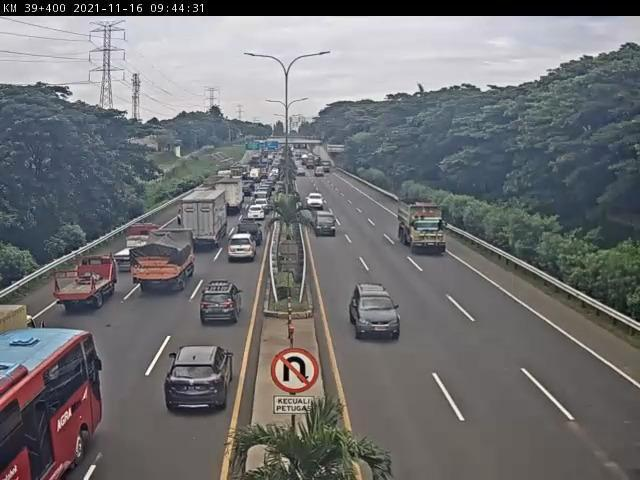car: (165, 346, 235, 413), (350, 285, 401, 339), (201, 279, 245, 323), (228, 238, 258, 265), (236, 224, 263, 251), (313, 212, 339, 239), (248, 206, 267, 221)
truck: (133, 232, 198, 296), (56, 255, 118, 312), (398, 198, 450, 254), (180, 192, 227, 251), (112, 226, 163, 273), (213, 178, 245, 214)
